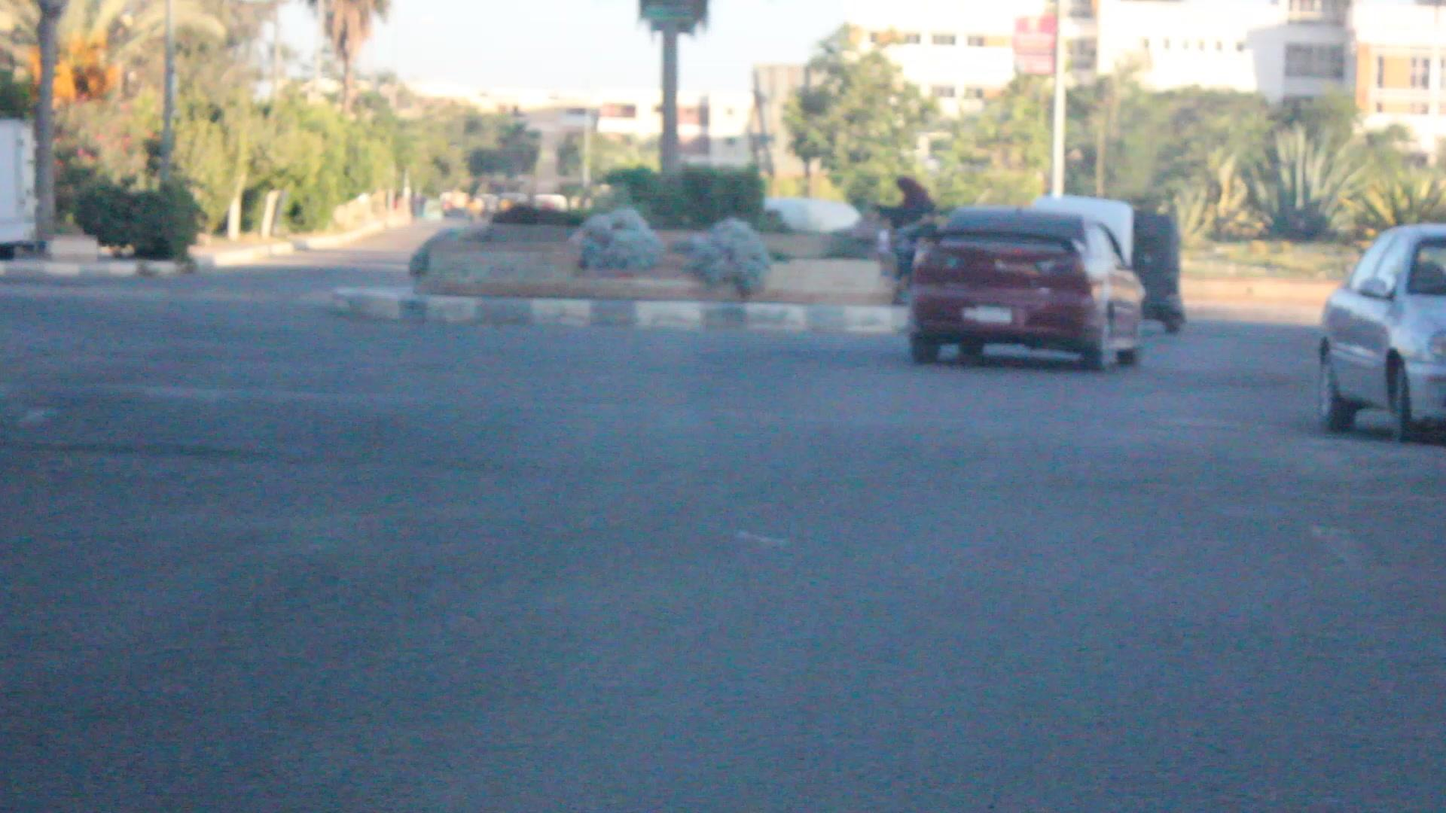Bump: (6, 378, 1446, 510)
